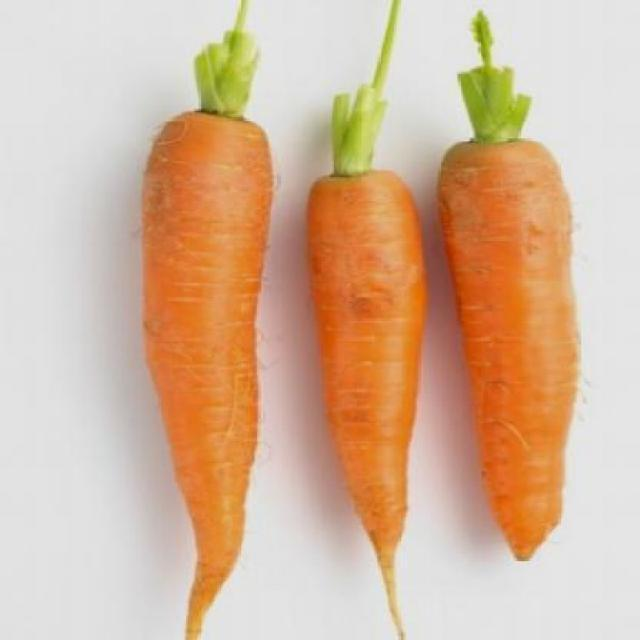carrot: (110, 87, 298, 636), (440, 126, 597, 580), (308, 148, 440, 616)
